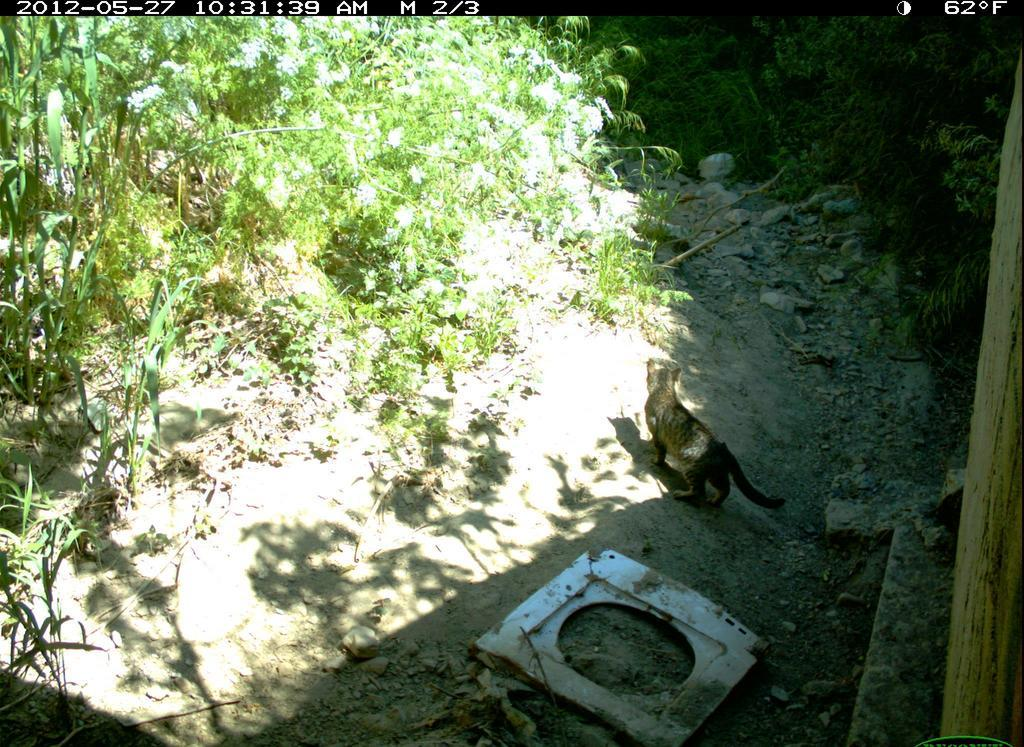cat: (629, 350, 794, 528)
